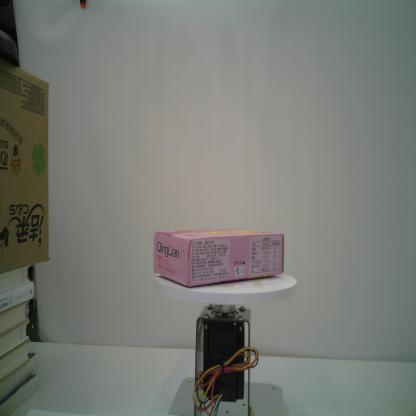Dessert: (149, 226, 285, 290)
